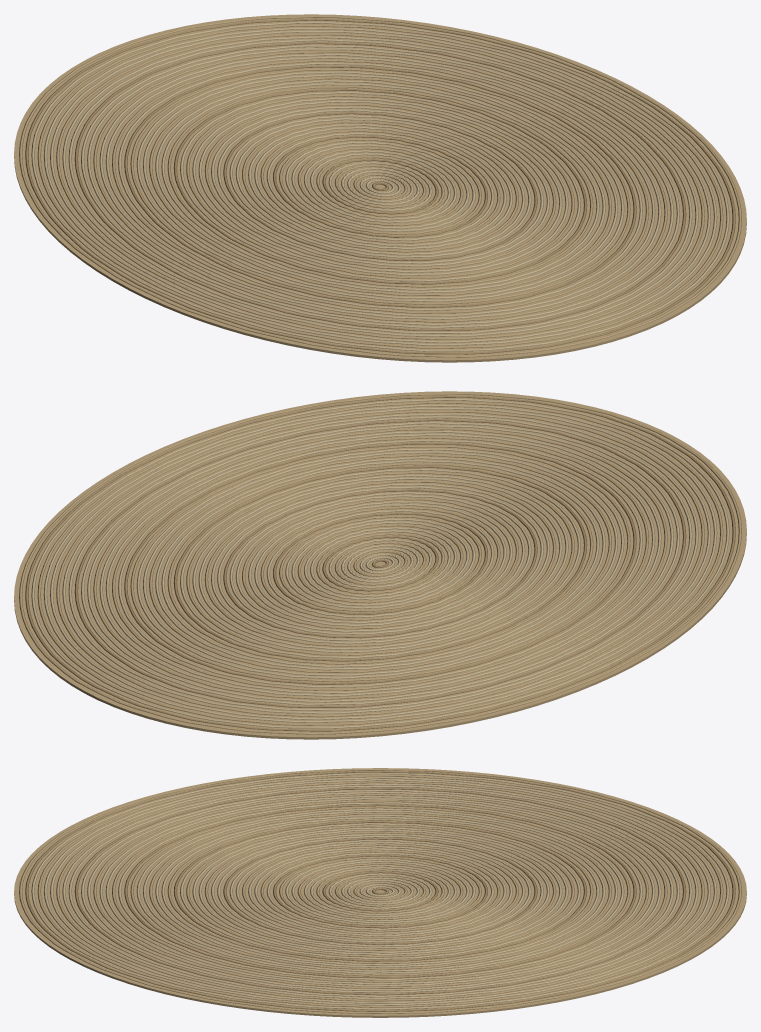
File: rug.glb
The picture shows the model from 3 angles, top to bottom: view 1: azimuth 30°, elevation 25°; view 2: azimuth 150°, elevation 25°; view 3: azimuth 270°, elevation 25°; orthographic projection. The views are drawn at different scales.
Parts seen in each view (by area): view 1: Atelier_Rug; view 2: Atelier_Rug; view 3: Atelier_Rug.
Part boxes in pixels (box(x1,y1,x2,y2)): Atelier_Rug: box(14, 14, 746, 362); Atelier_Rug: box(14, 391, 746, 739); Atelier_Rug: box(14, 768, 746, 1017).
Size of the model in its own units: 2.64 by 0.0175 by 3.3.
